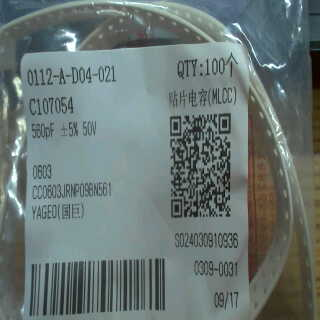560pF: (27, 119, 57, 142)
